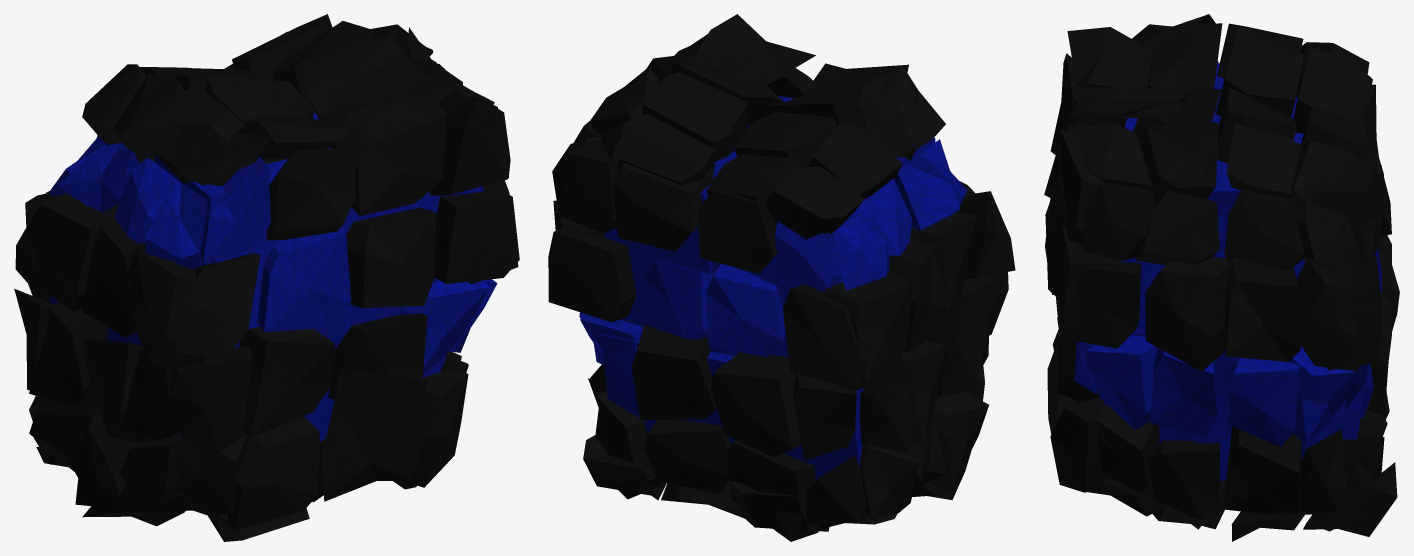
The model's file is kaldite_ore.glb.
3 views of the same model, side by side, from view 1: azimuth 30°, elevation 25°; view 2: azimuth 150°, elevation 25°; view 3: azimuth 270°, elevation 25° (orthographic). The views are drawn at different scales.
Visible parts, largest first — view 1: Dark fractured host rock, Cobalt blue mineral band; view 2: Dark fractured host rock, Cobalt blue mineral band; view 3: Dark fractured host rock, Cobalt blue mineral band.
Boxes of the visible parts, x1,y1,x2,y2 form: Dark fractured host rock: (14,14,519,541); Cobalt blue mineral band: (49,113,497,442); Dark fractured host rock: (548,14,1015,541); Cobalt blue mineral band: (579,96,967,480); Dark fractured host rock: (1044,14,1399,541); Cobalt blue mineral band: (1074,61,1382,480).
Bounding box in the file's own units: 0.3135 × 0.3258 × 0.2363.
Materials: 2 (2 with a texture image).
